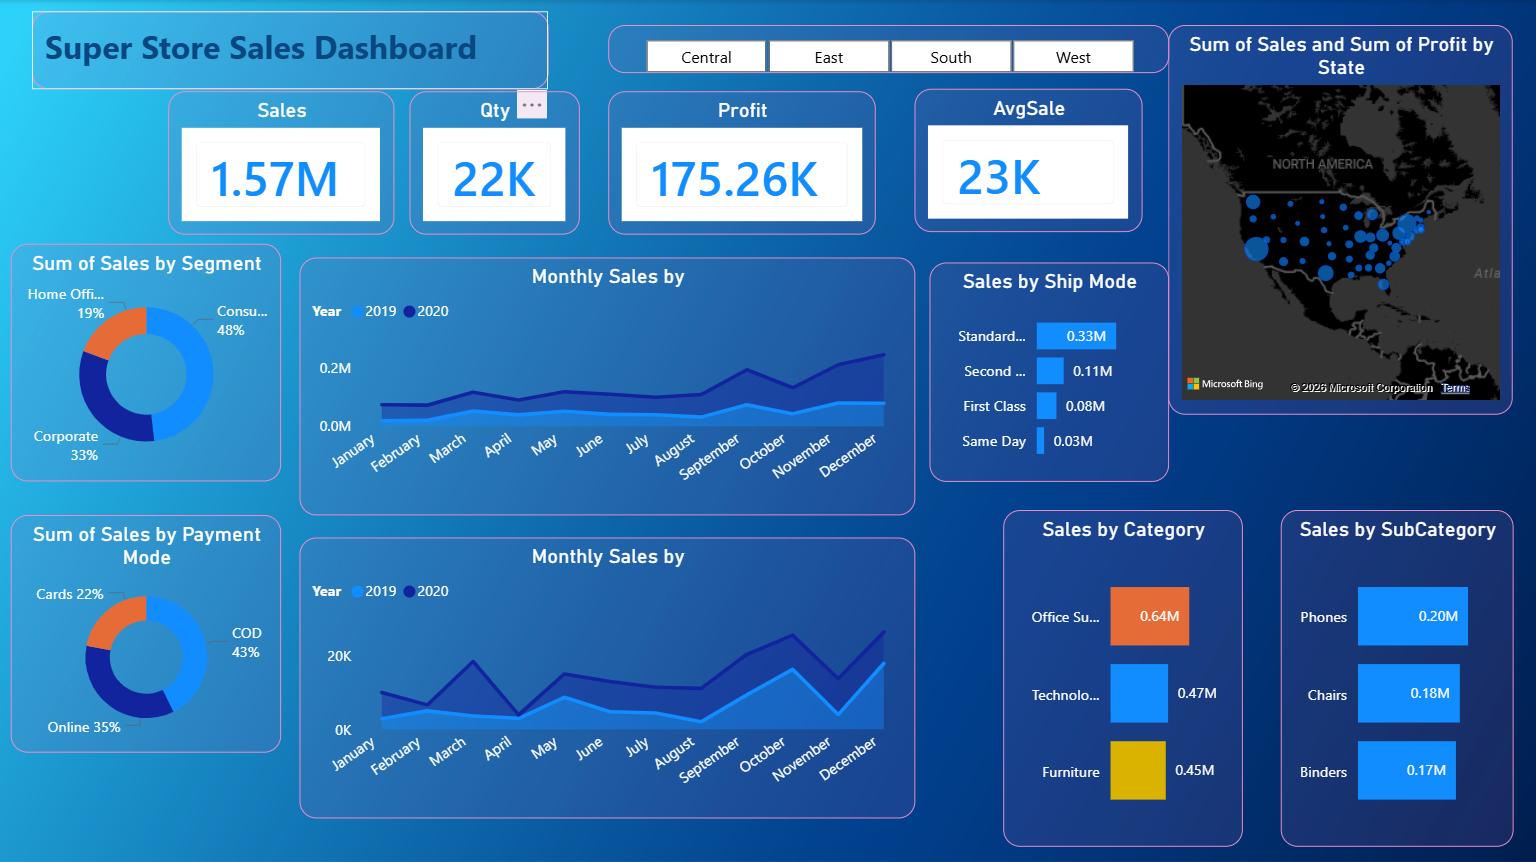

Layout of this report page (visuals, bound fields, positions):
{"tool":"powerbi","page":{"name":"Page 1","canvas":[1280,720],"ordinal":0},"visuals":[{"type":"clusteredBarChart","title":"Sales by Category","fields":{"Category":["SuperStore Sales DataSet.Category"],"Y":["Sum(SuperStore Sales DataSet.Sales)"]},"box":[837.1,424,199,279.9],"z":0},{"type":"clusteredBarChart","title":"Sales by SubCategory","fields":{"Category":["SuperStore Sales DataSet.Sub-Category","SuperStore Sales DataSet.Category"],"Y":["Sum(SuperStore Sales DataSet.Sales)"]},"box":[1067.6,424,193.5,279.9],"z":1000},{"type":"clusteredBarChart","title":"Sales by Ship Mode","fields":{"Category":["SuperStore Sales DataSet.Ship Mode"],"Y":["Sum(SuperStore Sales DataSet.Sales)"]},"box":[775.3,218.2,199,182.5],"z":2000},{"type":"stackedAreaChart","title":"Monthly Sales by ","fields":{"Y":["Sum(SuperStore Sales DataSet.Sales)"],"Series":["SuperStore Sales DataSet.Order Date.Variation.Date Hierarchy.Year"],"Category":["SuperStore Sales DataSet.Order Date.Variation.Date Hierarchy.Month","SuperStore Sales DataSet.Order Date.Variation.Date Hierarchy.Day"]},"box":[251.1,214.1,511.8,214.1],"z":3000},{"type":"stackedAreaChart","title":"Monthly Sales by ","fields":{"Series":["SuperStore Sales DataSet.Order Date.Variation.Date Hierarchy.Year"],"Category":["SuperStore Sales DataSet.Order Date.Variation.Date Hierarchy.Month","SuperStore Sales DataSet.Order Date.Variation.Date Hierarchy.Day"],"Y":["Sum(SuperStore Sales DataSet.Profit)"]},"box":[251.1,447.3,511.8,233.3],"z":4000},{"type":"map","fields":{"Category":["SuperStore Sales DataSet.State"],"Size":["Sum(SuperStore Sales DataSet.Sales)"]},"box":[974.3,20.6,286.8,323.8],"z":5000},{"type":"donutChart","fields":{"Category":["SuperStore Sales DataSet.Segment"],"Y":["Sum(SuperStore Sales DataSet.Sales)"]},"box":[11,203.1,225,197.6],"z":6000},{"type":"donutChart","fields":{"Category":["SuperStore Sales DataSet.Payment Mode"],"Y":["Sum(SuperStore Sales DataSet.Sales)"]},"box":[11,428.1,225,197.6],"z":7000},{"type":"slicer","fields":{"Values":["SuperStore Sales DataSet.Region"]},"box":[507.7,20.6,466.6,39.8],"z":8000},{"type":"textbox","box":[28.8,9.6,429.5,64.5],"z":9000},{"type":"cardVisual","title":"Sales","fields":{"Data":["Sum(SuperStore Sales DataSet.Sales)"]},"box":[142.7,75.5,188,119.4],"z":10000},{"type":"cardVisual","title":"Qty","fields":{"Data":["Sum(SuperStore Sales DataSet.Quantity)"]},"box":[343.1,75.5,141.3,119.4],"z":11000},{"type":"cardVisual","title":"Profit","fields":{"Data":["Sum(SuperStore Sales DataSet.Profit)"]},"box":[507.7,75.5,222.3,119.4],"z":12000},{"type":"cardVisual","title":"AvgSale","fields":{"Data":["Sum(SuperStore Sales DataSet.AvgDelivery)"]},"box":[763,74.1,189.4,119.4],"z":13000}]}

Visuals, with their boxes in screenshot pixels (x1, y1, x2, y2), scaled from the page's 1280x720 canvas onto the 1536x862 screenshot:
"Sales by Category" clusteredBarChart: <bbox>1005, 508, 1243, 843</bbox>
"Sales by SubCategory" clusteredBarChart: <bbox>1281, 508, 1513, 843</bbox>
"Sales by Ship Mode" clusteredBarChart: <bbox>930, 261, 1169, 480</bbox>
"Monthly Sales by " stackedAreaChart: <bbox>301, 256, 915, 513</bbox>
"Monthly Sales by " stackedAreaChart: <bbox>301, 536, 915, 815</bbox>
map - SuperStore Sales DataSet.State x Sum(SuperStore Sales DataSet.Sales): <bbox>1169, 25, 1513, 412</bbox>
donutChart - SuperStore Sales DataSet.Segment x Sum(SuperStore Sales DataSet.Sales): <bbox>13, 243, 283, 480</bbox>
donutChart - SuperStore Sales DataSet.Payment Mode x Sum(SuperStore Sales DataSet.Sales): <bbox>13, 513, 283, 749</bbox>
slicer - SuperStore Sales DataSet.Region: <bbox>609, 25, 1169, 72</bbox>
textbox: <bbox>35, 11, 550, 89</bbox>
"Sales" cardVisual: <bbox>171, 90, 397, 233</bbox>
"Qty" cardVisual: <bbox>412, 90, 581, 233</bbox>
"Profit" cardVisual: <bbox>609, 90, 876, 233</bbox>
"AvgSale" cardVisual: <bbox>916, 89, 1143, 232</bbox>
